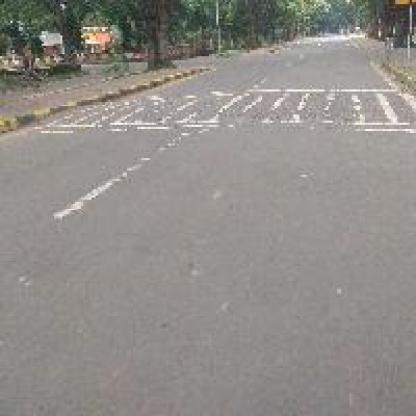Speed Bump: (40, 85, 406, 131)
